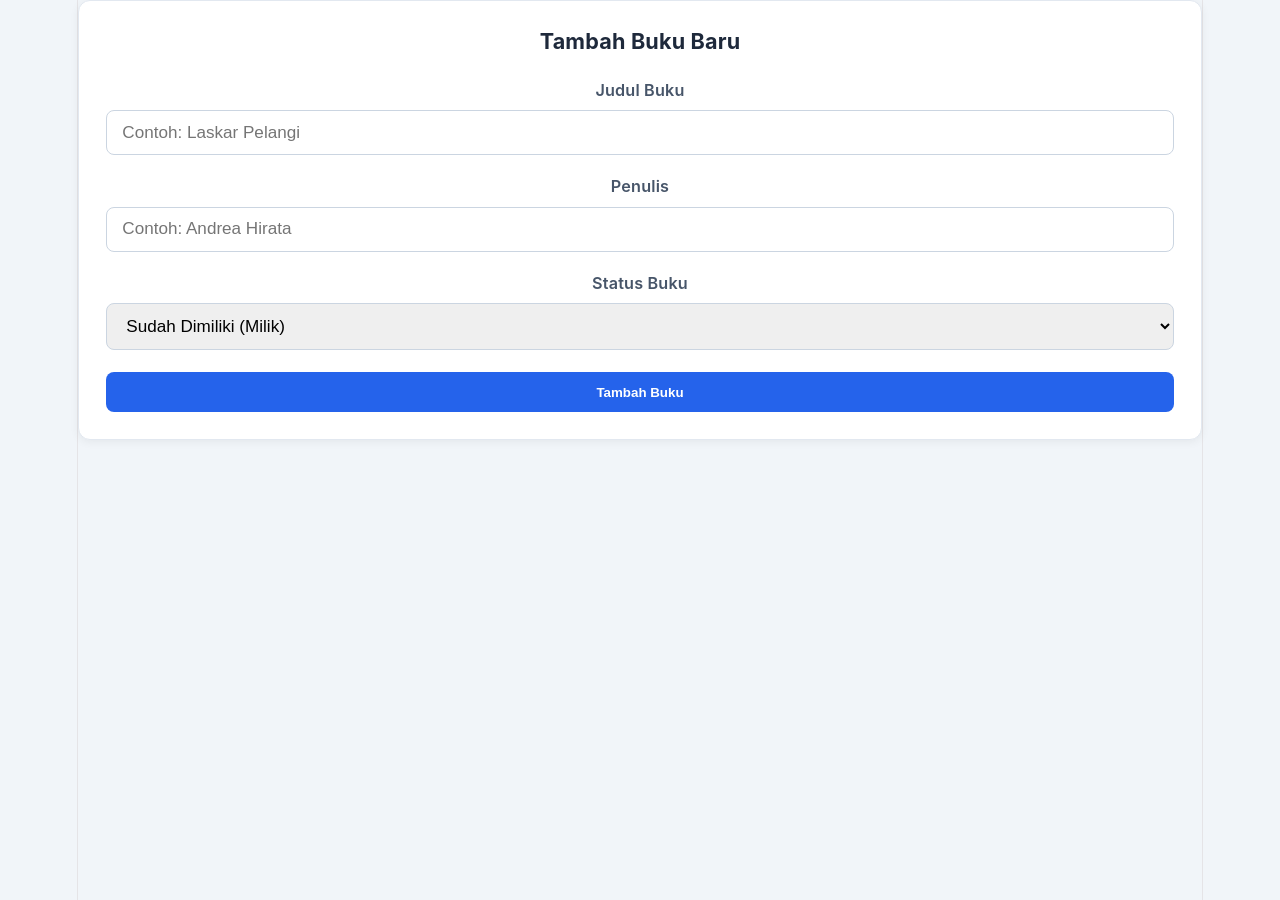
Pengujian Unit Aplikasi Manajemen Buku Pribadi › 1. Menampilkan pesan error visual jika form disubmit dalam keadaan kosong
Click the button "Tambah Buku" at (640, 392), box 106,372 -> 1174,412
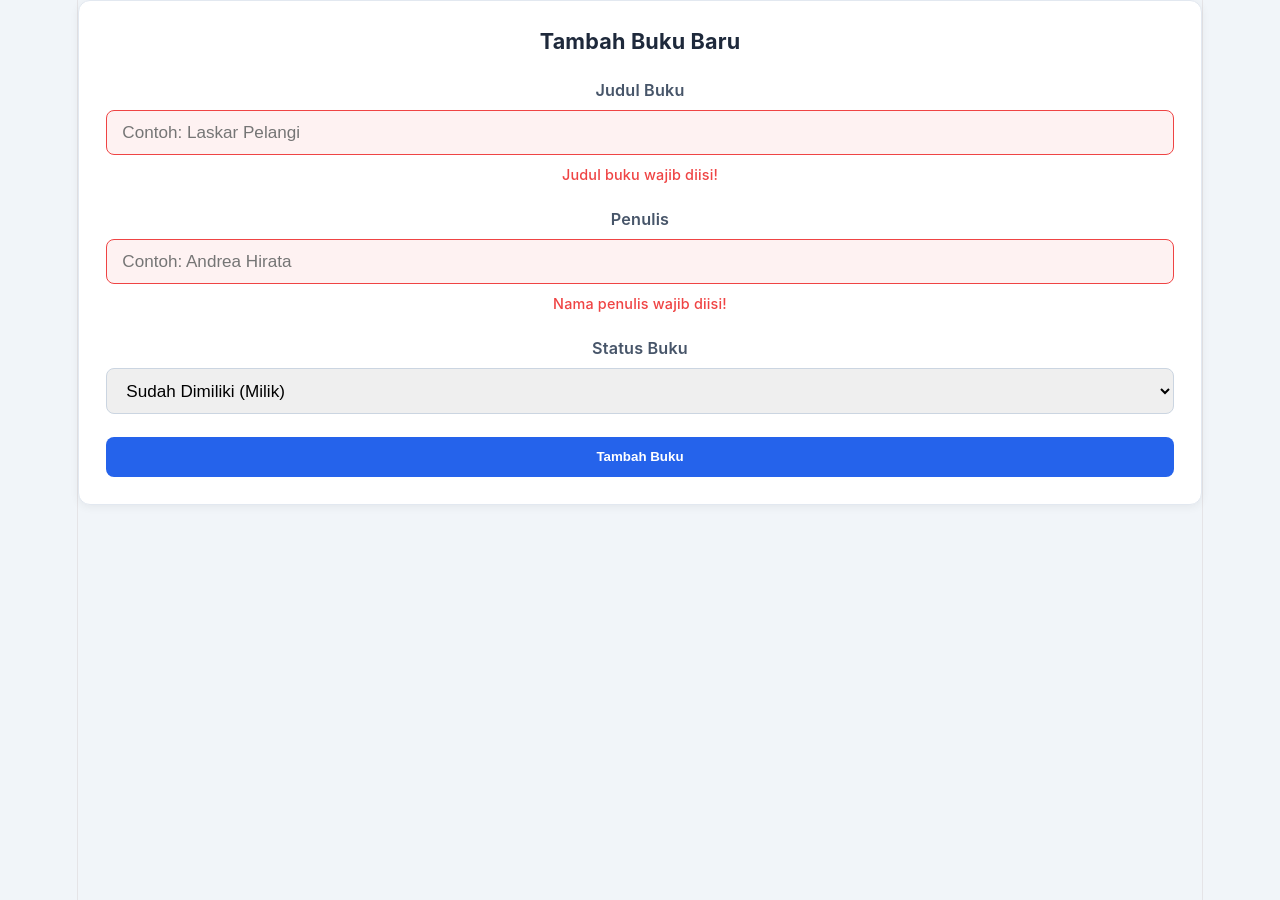
expect the text "Judul buku wajib diisi!" is shown: met, box 562,166 -> 718,182
expect the text "Nama penulis wajib diisi!" is shown: met, box 553,295 -> 727,312
